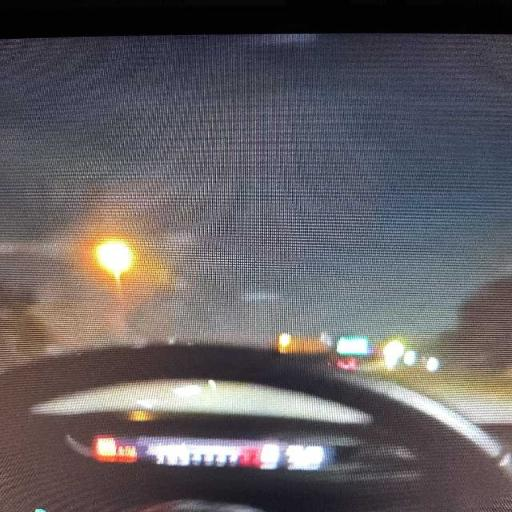car: (0, 346, 511, 511)
